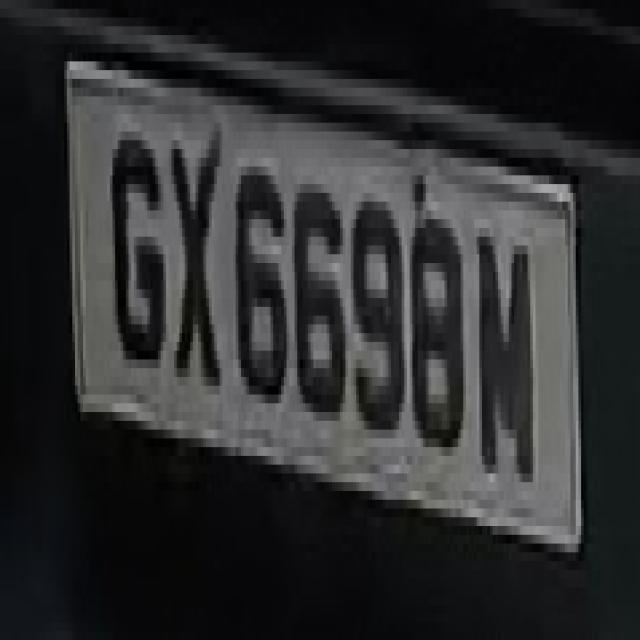6: (286, 149, 351, 447), (230, 149, 289, 430)
8: (402, 166, 468, 464)
9: (340, 176, 402, 474)
G: (99, 96, 166, 386)
M: (474, 193, 538, 500)
X: (158, 97, 230, 430)
